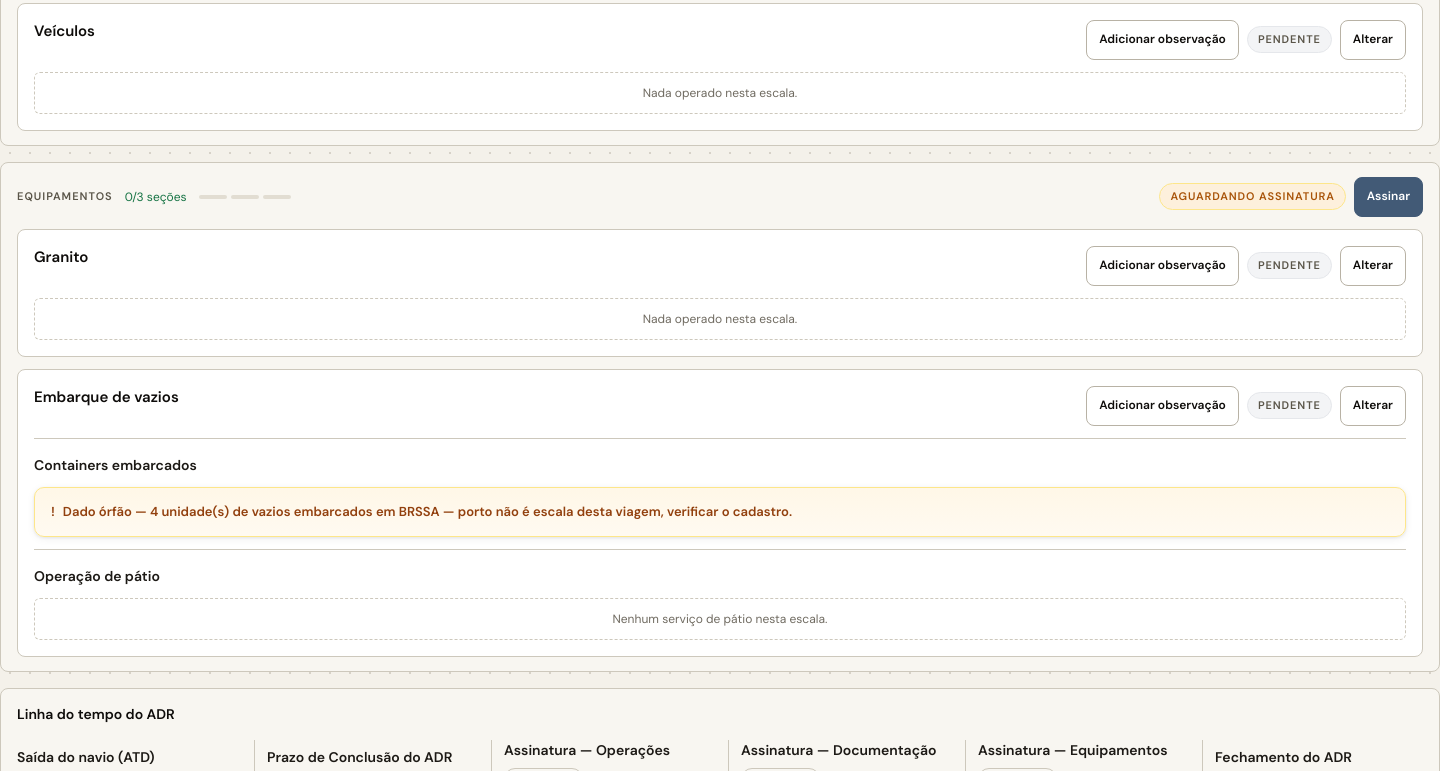
Test case: aviso de Embarque de Vazios órfão não bloqueia o sign-off da seção
(page scrolled)
Expected: the text "4 unidade(s) de vazios embarcados em BRSSA" is shown, x1=150 y1=502 x2=792 y2=520
Click the button with aria-label "Alterar resolução de Equipamentos". click: (1373, 406)
box: x1=1340 y1=386 x2=1406 y2=426
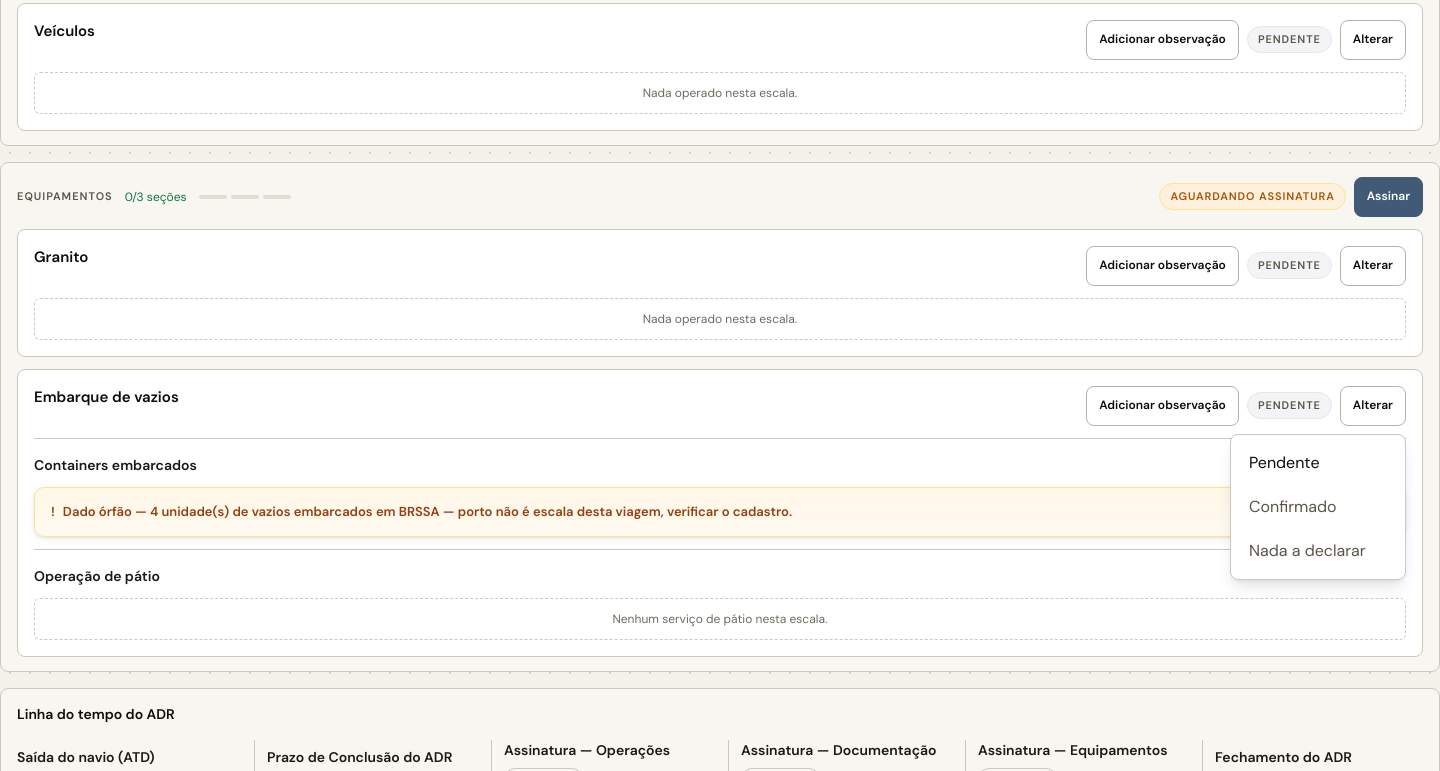
Expected: the button "Confirmado" is shown, x1=1239 y1=486 x2=1397 y2=526
Expected: the button "Nada a declarar" is shown, x1=1239 y1=530 x2=1397 y2=570
